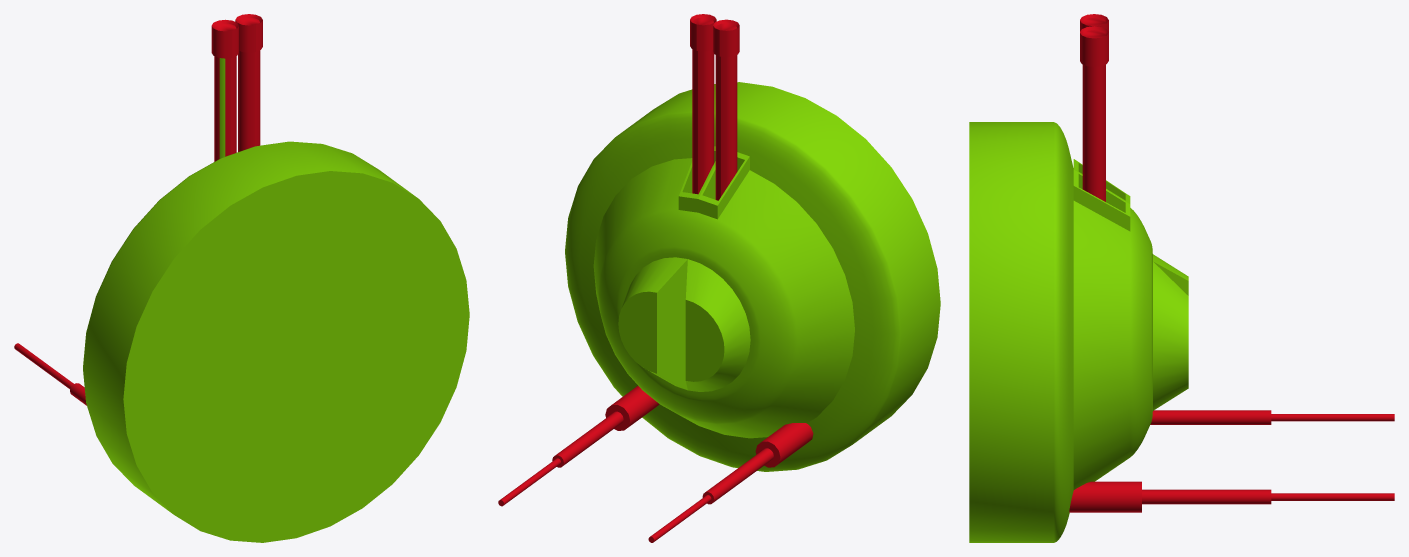
File: Toto.fbx
3 renders of one model, left to right at view 1: azimuth 30°, elevation 25°; view 2: azimuth 150°, elevation 25°; view 3: azimuth 270°, elevation 25°, orthographic. The views are drawn at different scales.
Visible parts, largest first — view 1: Cylinder; view 2: Cylinder; view 3: Cylinder.
Boxes of the visible parts, x1=… form: Cylinder: x1=14, y1=14, x2=469, y2=542; Cylinder: x1=498, y1=14, x2=940, y2=542; Cylinder: x1=969, y1=14, x2=1394, y2=542.
Bounding box in the file's own units: 200 × 260 × 202.
